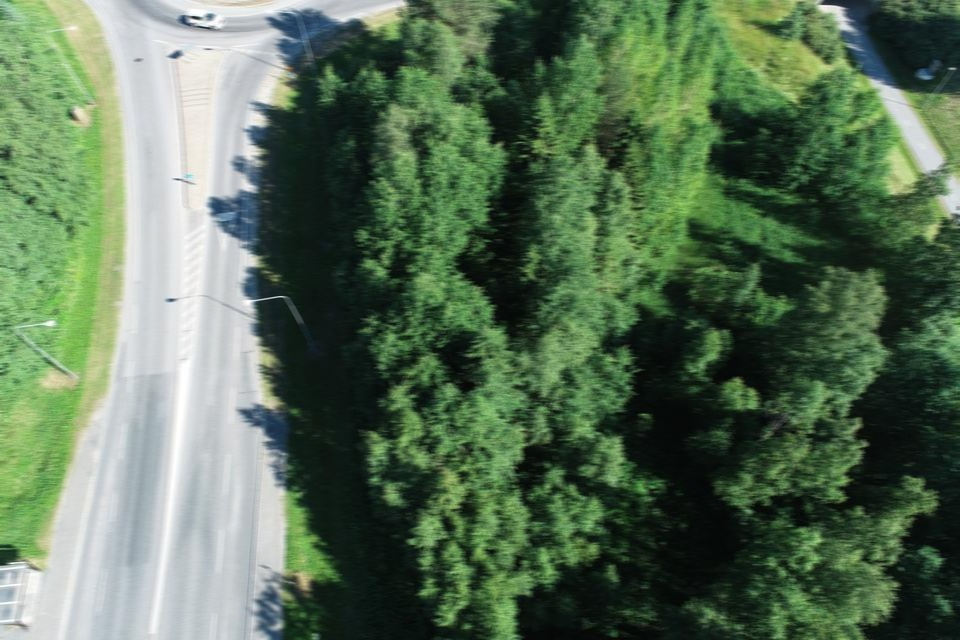roundabout: (41, 0, 484, 115)
